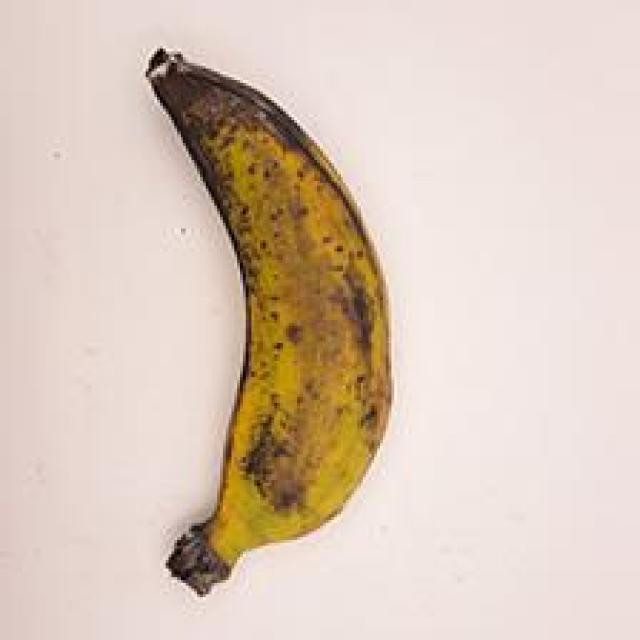Overripe: (91, 26, 421, 598)
